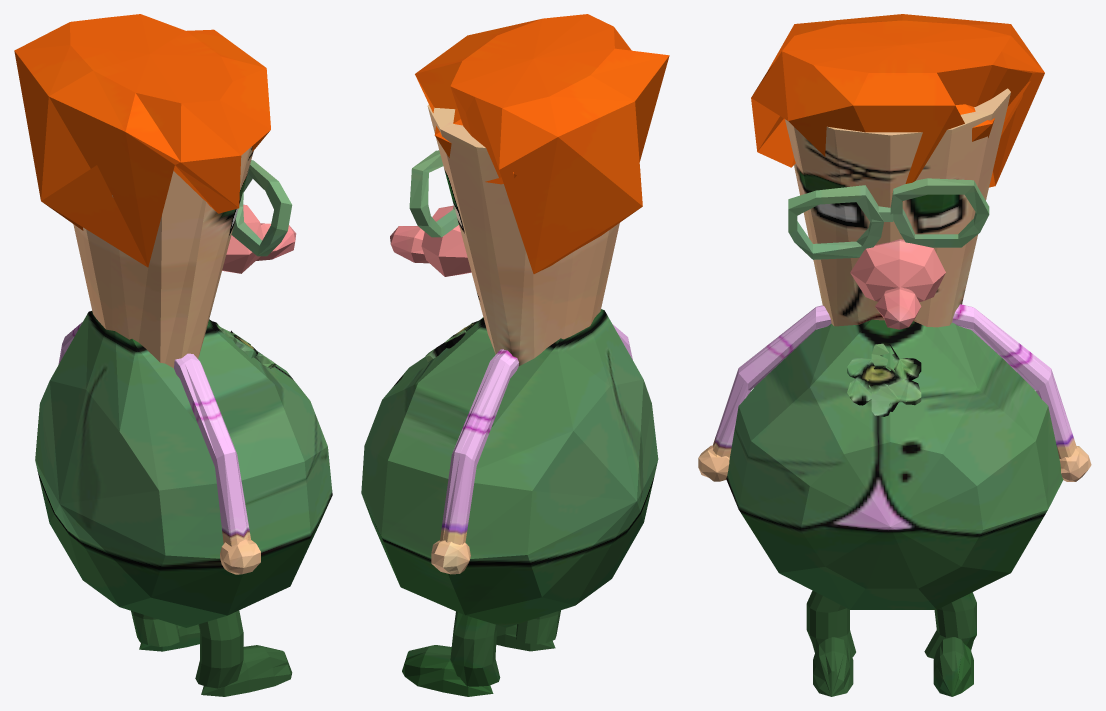
The model's file is Shik.glb.
3 views of the same model, side by side, from view 1: azimuth 30°, elevation 25°; view 2: azimuth 150°, elevation 25°; view 3: azimuth 270°, elevation 25° (orthographic). The views are drawn at different scales.
Visible parts, largest first — view 1: Shik; view 2: Shik; view 3: Shik.
Part boxes in pixels (x1,y1,x2,y2): Shik: (14, 14, 332, 696); Shik: (361, 14, 669, 696); Shik: (698, 14, 1091, 696).
Size of the model in its own units: 97.61 by 223 by 132.
Materials: 1 (1 with a texture image).
